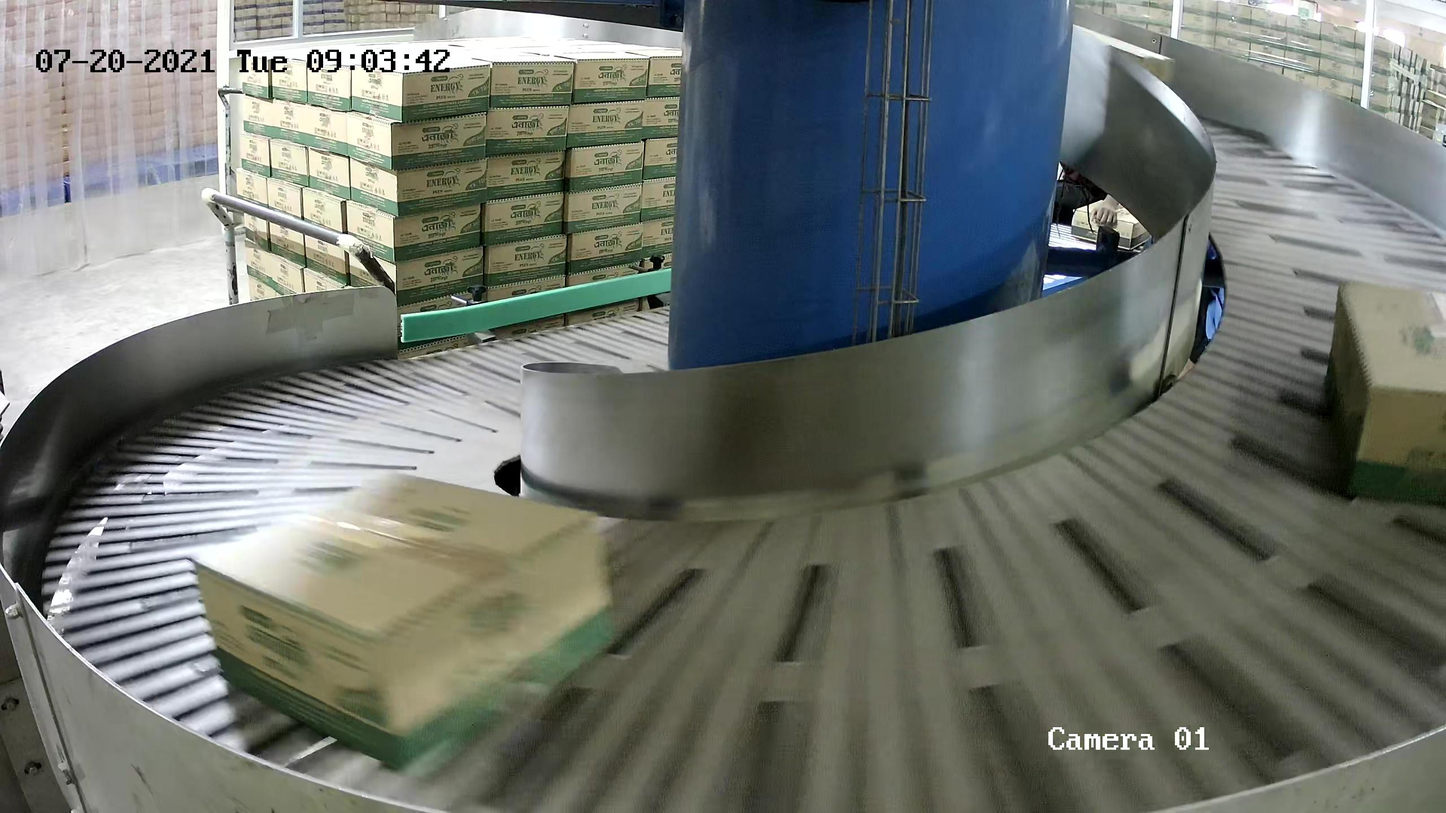Box: (189, 470, 625, 772), (1318, 280, 1446, 517)
